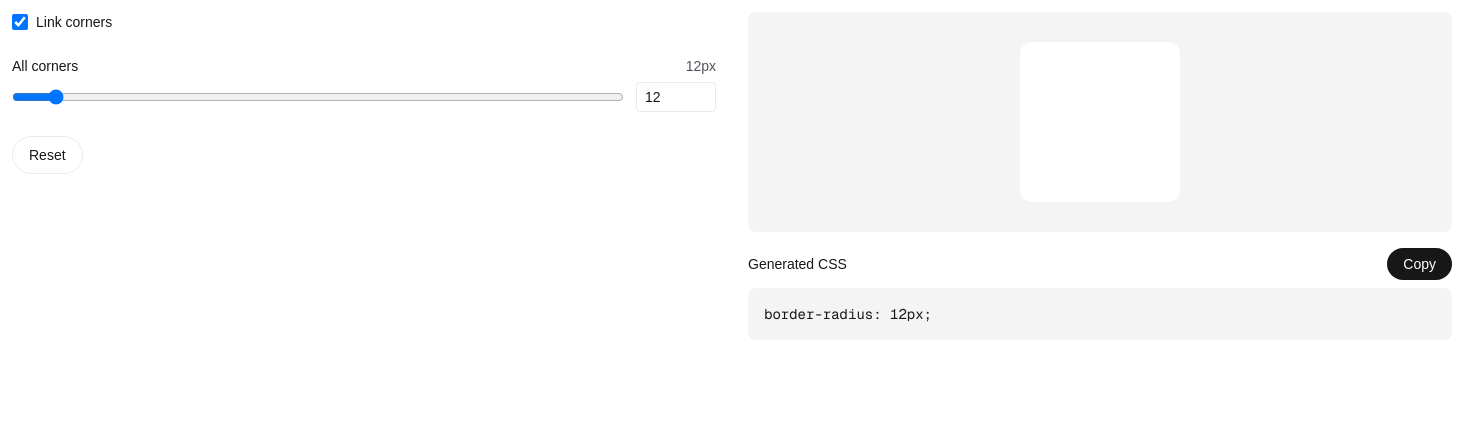
Test case: BorderRadiusGenerator › allows independent corners after unlinking
Click the checkbox named "Link corners" at (20, 22), box x1=12 y1=14 x2=28 y2=30
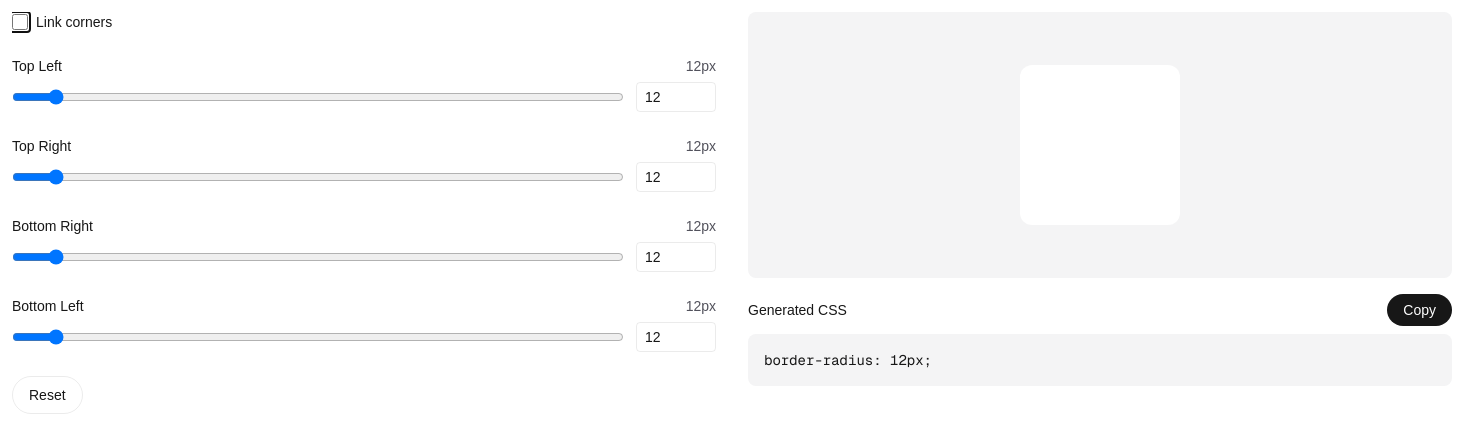
Set the slider labelled "Top Left" to "40" at (139, 97), box x1=12 y1=89 x2=624 y2=105
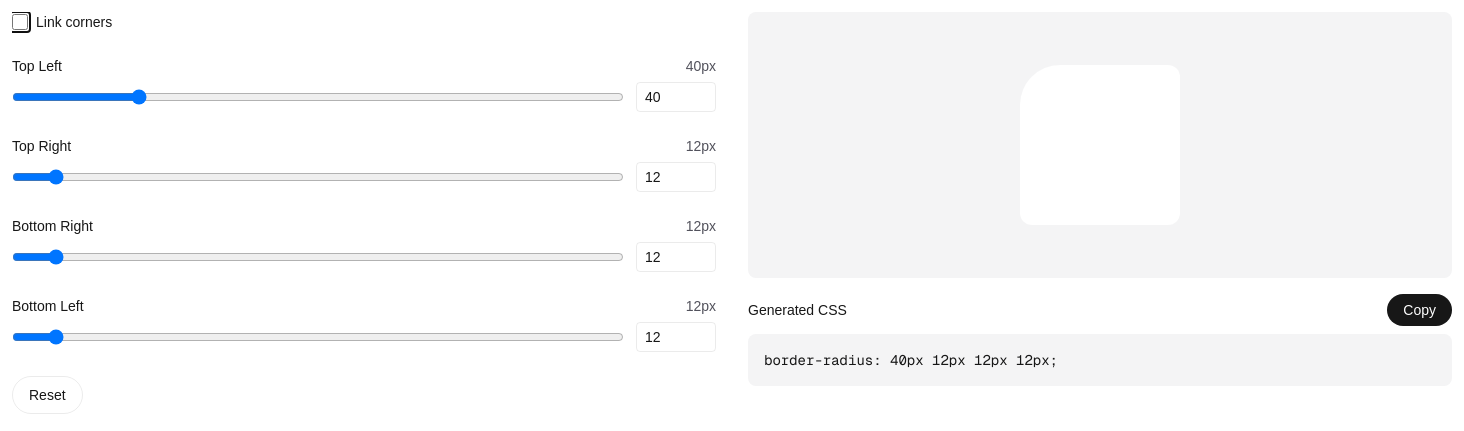
Check: the text "border-radius: 40px 12px 12px 12px;" is shown, box x1=748 y1=334 x2=1452 y2=386
